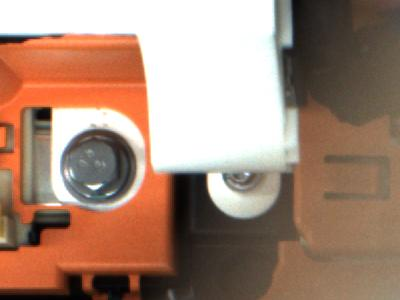nut_b: (56, 127, 135, 205)
